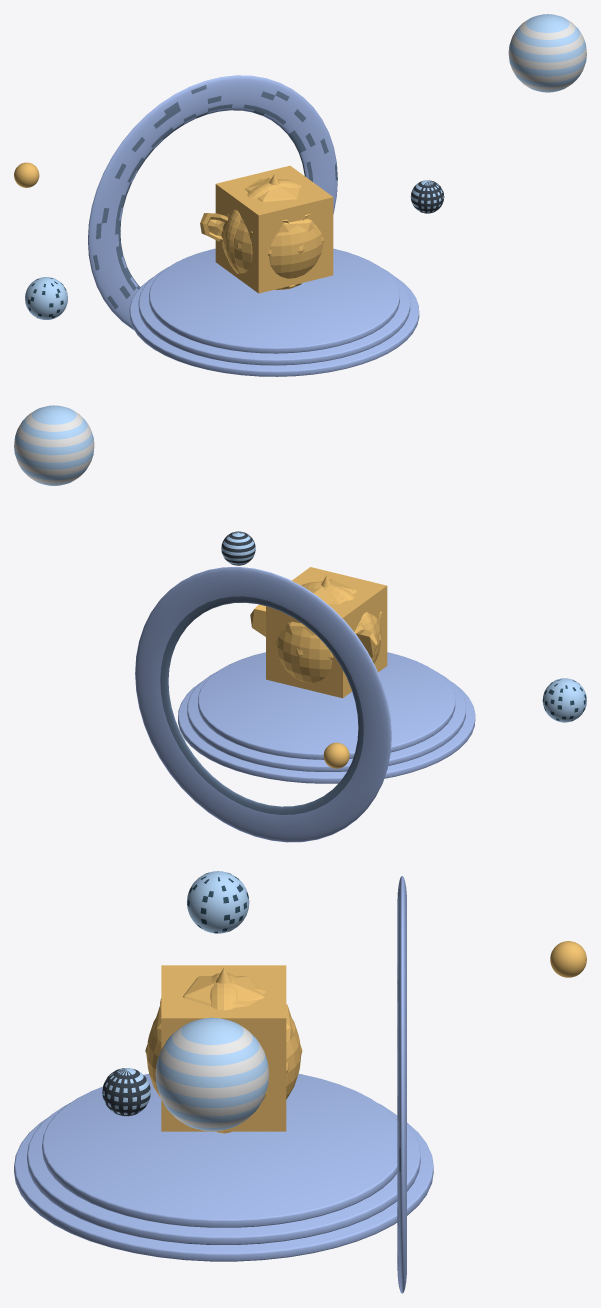
The model's file is platform.glb.
3 renders of one model, top to bottom at view 1: azimuth 30°, elevation 25°; view 2: azimuth 150°, elevation 25°; view 3: azimuth 270°, elevation 25°, orthographic. The views are drawn at different scales.
Visible parts, largest first — view 1: Platform-1, Torus.001, Cube, Sphere-4, Platform-2, Platform-3, Circle, Sphere-1, Icosphere, Torus, Sphere-3, Suzanne (+1 smaller); view 2: Torus.001, Platform-1, Cube, Sphere-4, Platform-3, Platform-2, Circle, Sphere-1, Sphere-3, Suzanne, Icosphere, Torus; view 3: Platform-1, Sphere-4, Cube, Platform-3, Platform-2, Torus.001, Sphere-1, Sphere-3, Icosphere, Circle, Sphere-2, Torus.
Boxes of the visible parts, <box> form: Platform-1: <box>149,248,399,353</box>; Torus.001: <box>88,75,337,329</box>; Cube: <box>215,165,333,293</box>; Sphere-4: <box>508,14,586,92</box>; Platform-2: <box>138,267,410,365</box>; Platform-3: <box>129,277,419,376</box>; Circle: <box>222,213,322,278</box>; Sphere-1: <box>25,277,67,319</box>; Icosphere: <box>221,177,323,255</box>; Torus: <box>224,180,301,273</box>; Sphere-3: <box>410,180,444,213</box>; Suzanne: <box>200,179,310,289</box>; Torus.001: <box>135,567,391,842</box>; Platform-1: <box>198,652,455,759</box>; Cube: <box>266,567,387,698</box>; Sphere-4: <box>14,405,94,485</box>; Platform-3: <box>178,681,475,783</box>; Platform-2: <box>187,671,465,771</box>; Circle: <box>276,615,381,682</box>; Sphere-1: <box>542,678,586,722</box>; Sphere-3: <box>221,531,255,565</box>; Suzanne: <box>250,597,381,657</box>; Icosphere: <box>275,579,380,659</box>; Torus: <box>301,581,377,663</box>; Platform-1: <box>42,1074,397,1227</box>; Sphere-4: <box>155,1017,269,1131</box>; Cube: <box>161,965,286,1131</box>; Platform-3: <box>14,1118,433,1261</box>; Platform-2: <box>27,1103,420,1244</box>; Torus.001: <box>397,876,406,1293</box>; Sphere-1: <box>186,871,249,933</box>; Sphere-3: <box>102,1068,150,1116</box>; Icosphere: <box>145,976,302,1073</box>; Circle: <box>146,1013,301,1102</box>; Sphere-2: <box>550,941,586,977</box>; Torus: <box>210,973,237,1133</box>.
Size of the model in its own units: 5.08 by 2.68 by 3.15.
